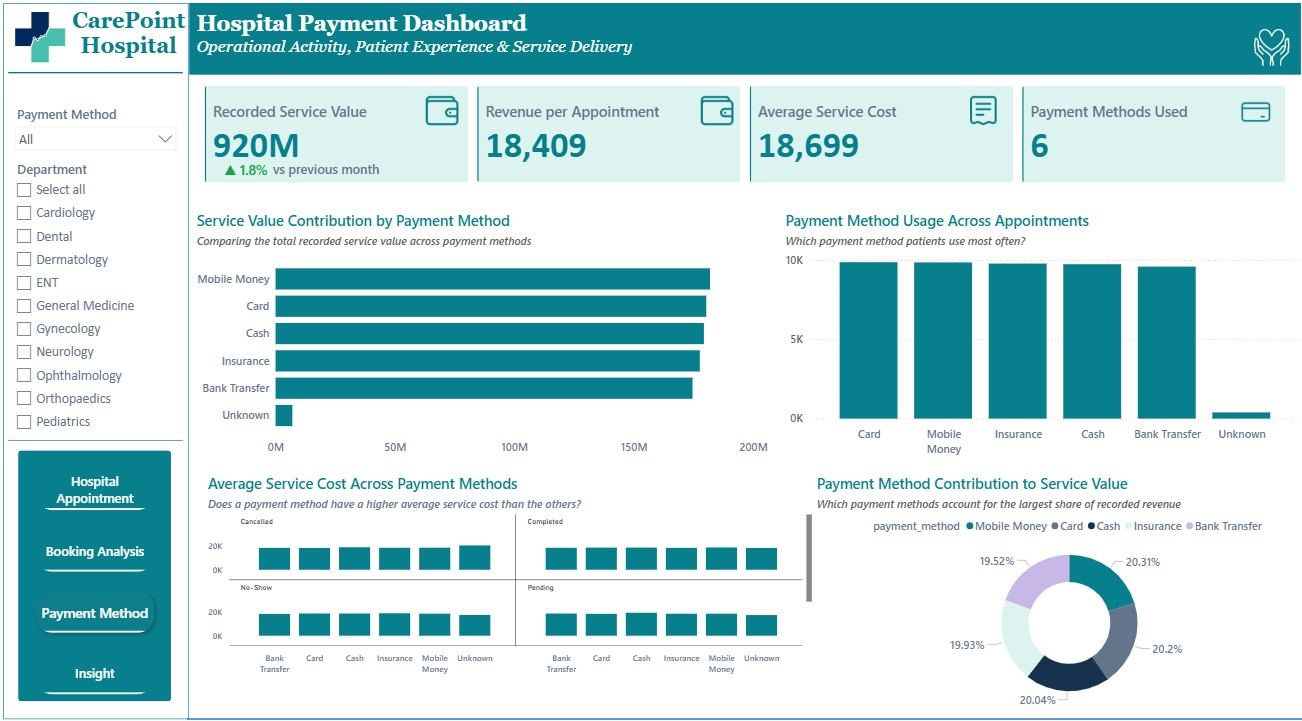

The dashboard page shown, as its layout file describes it:
{"tool":"powerbi","page":{"name":"Payment Method","canvas":[1950,1080],"ordinal":2},"visuals":[{"type":"shape","box":[9,15,272,1051],"z":0},{"type":"textbox","box":[97,16,192,112],"z":1000},{"type":"shape","box":[282,15,1632,105],"z":2000},{"type":"image","box":[13,18,100,96],"z":3000},{"type":"textbox","box":[288,22,816,80],"z":4000},{"type":"shape","box":[16,640,256,32],"z":5000},{"type":"image","box":[1831,48,80,64],"z":6000},{"type":"shape","box":[16,101,256,32],"z":7000},{"type":"cardVisual","fields":{"Data":["hospital_appointments.Total Revenue"]},"box":[288,120,420,176],"z":8000},{"type":"slicer","fields":{"Values":["hospital_appointments.department"]},"box":[16,240,256,416],"z":9000},{"type":"slicer","fields":{"Values":["hospital_appointments.payment_method"]},"box":[16,160,256,80],"z":10000},{"type":"cardVisual","fields":{"Data":["hospital_appointments.Average Service Cost"]},"box":[1088,120,420,176],"z":11000},{"type":"cardVisual","fields":{"Data":["hospital_appointments.Payment Methods Used"]},"box":[1488,120,420,176],"z":12000},{"type":"cardVisual","fields":{"Data":["hospital_appointments.Revenue per Appointment"]},"box":[688,120,420,176],"z":13000},{"type":"clusteredColumnChart","title":"Payment Method Usage Across Appointments","fields":{"Category":["hospital_appointments.payment_method"],"Y":["CountNonNull(hospital_appointments.appointment_id)"]},"box":[1152,320,768,368],"z":14000},{"type":"clusteredBarChart","title":"Service Value Contribution by Payment Method","fields":{"Category":["hospital_appointments.payment_method"],"Y":["hospital_appointments.Total Revenue"]},"box":[288,320,848,368],"z":15000},{"type":"columnChart","title":"Average Service Cost Across Payment Methods","fields":{"Category":["hospital_appointments.payment_method"],"Y":["hospital_appointments.Average Service Cost"],"Rows":["hospital_appointments.appointment_status"]},"box":[304,704,896,304],"z":16000},{"type":"shape","box":[279,1052,1671,25],"z":17000},{"type":"shape","box":[32,672,224,368],"z":18000},{"type":"pageNavigator","box":[47,688,192,352],"z":19000},{"type":"donutChart","title":"Payment Method Contribution to Service Value","fields":{"Y":["hospital_appointments.Revenue Contribution %"],"Category":["hospital_appointments.payment_method"]},"box":[1198,704,752,352],"z":20000},{"type":"cardVisual","fields":{"Data":["DateTable.Service Value Trend"]},"box":[304,231,128,53],"z":21000},{"type":"textbox","box":[400,240,176,48],"z":22000},{"type":"image","box":[630,148,48,48],"z":23000},{"type":"image","box":[1424,148,48,48],"z":24000},{"type":"image","box":[1032,148,48,48],"z":25000},{"type":"image","box":[1824,148,48,48],"z":26000}]}

Visuals, with their boxes in screenshot pixels (x1, y1, x2, y2), scaled from the page's 1950x1080 canvas onto the 1302x721 screenshot:
shape: crop(6, 10, 188, 712)
textbox: crop(65, 11, 193, 85)
shape: crop(188, 10, 1278, 80)
image: crop(9, 12, 75, 76)
textbox: crop(192, 15, 737, 68)
shape: crop(11, 427, 182, 449)
image: crop(1223, 32, 1276, 75)
shape: crop(11, 67, 182, 89)
cardVisual - hospital_appointments.Total Revenue: crop(192, 80, 473, 198)
slicer - hospital_appointments.department: crop(11, 160, 182, 438)
slicer - hospital_appointments.payment_method: crop(11, 107, 182, 160)
cardVisual - hospital_appointments.Average Service Cost: crop(726, 80, 1007, 198)
cardVisual - hospital_appointments.Payment Methods Used: crop(994, 80, 1274, 198)
cardVisual - hospital_appointments.Revenue per Appointment: crop(459, 80, 740, 198)
"Payment Method Usage Across Appointments" clusteredColumnChart: crop(769, 214, 1282, 459)
"Service Value Contribution by Payment Method" clusteredBarChart: crop(192, 214, 758, 459)
"Average Service Cost Across Payment Methods" columnChart: crop(203, 470, 801, 673)
shape: crop(186, 702, 1301, 719)
shape: crop(21, 449, 171, 694)
pageNavigator: crop(31, 459, 160, 694)
"Payment Method Contribution to Service Value" donutChart: crop(800, 470, 1301, 705)
cardVisual - DateTable.Service Value Trend: crop(203, 154, 288, 190)
textbox: crop(267, 160, 385, 192)
image: crop(421, 99, 453, 131)
image: crop(951, 99, 983, 131)
image: crop(689, 99, 721, 131)
image: crop(1218, 99, 1250, 131)
